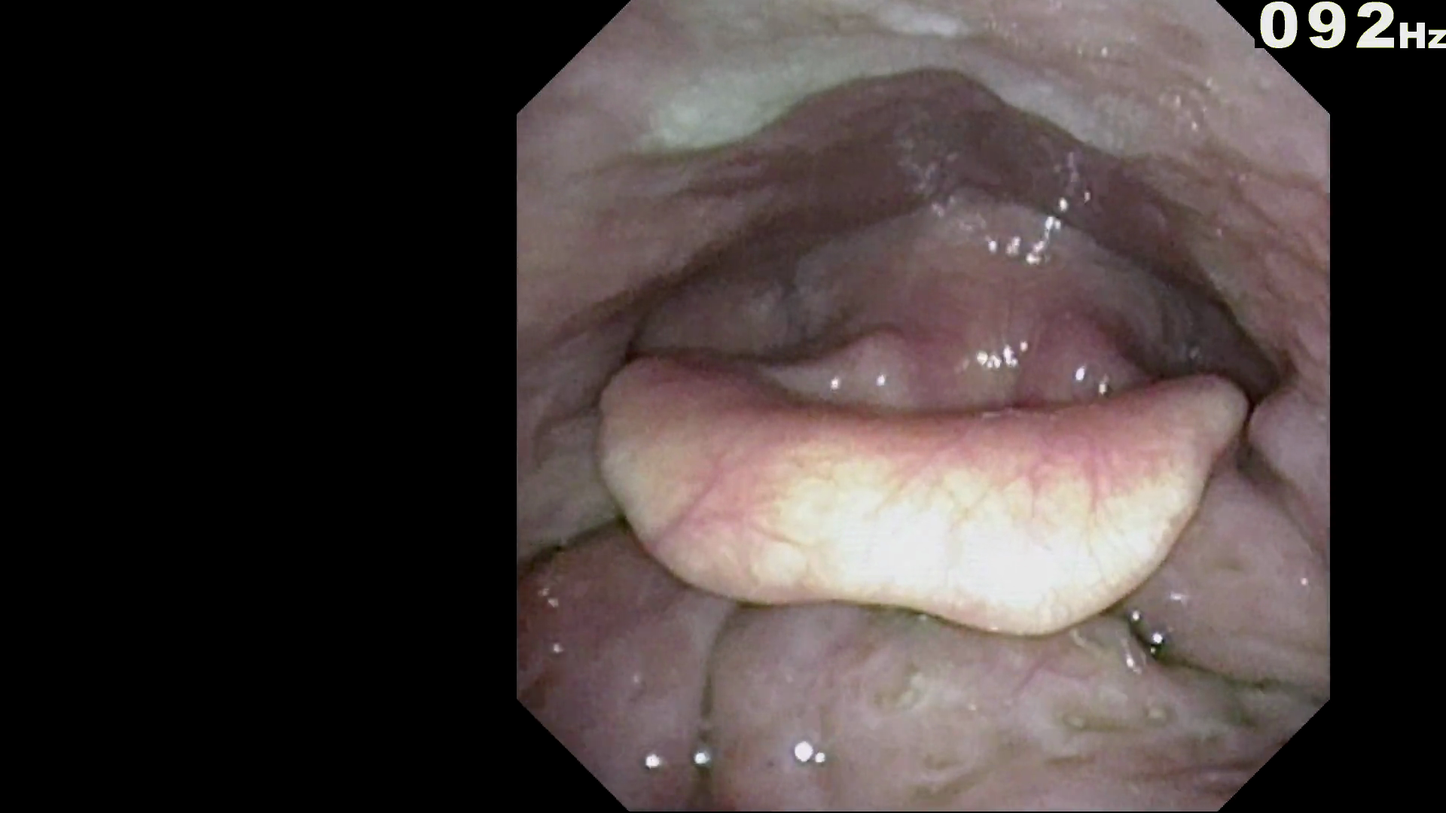epiglottis: (611, 369, 1224, 626)
